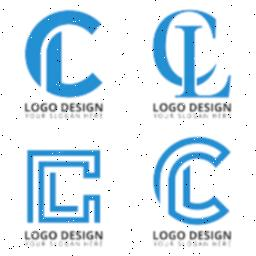c: (16, 5, 116, 99), (148, 133, 238, 229)
l: (170, 22, 234, 100), (46, 169, 80, 215)
